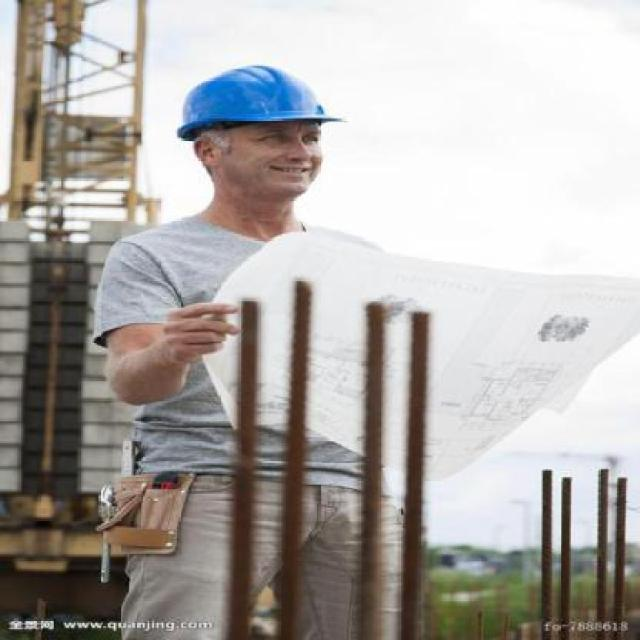safetyhelmet: (176, 64, 345, 202)
